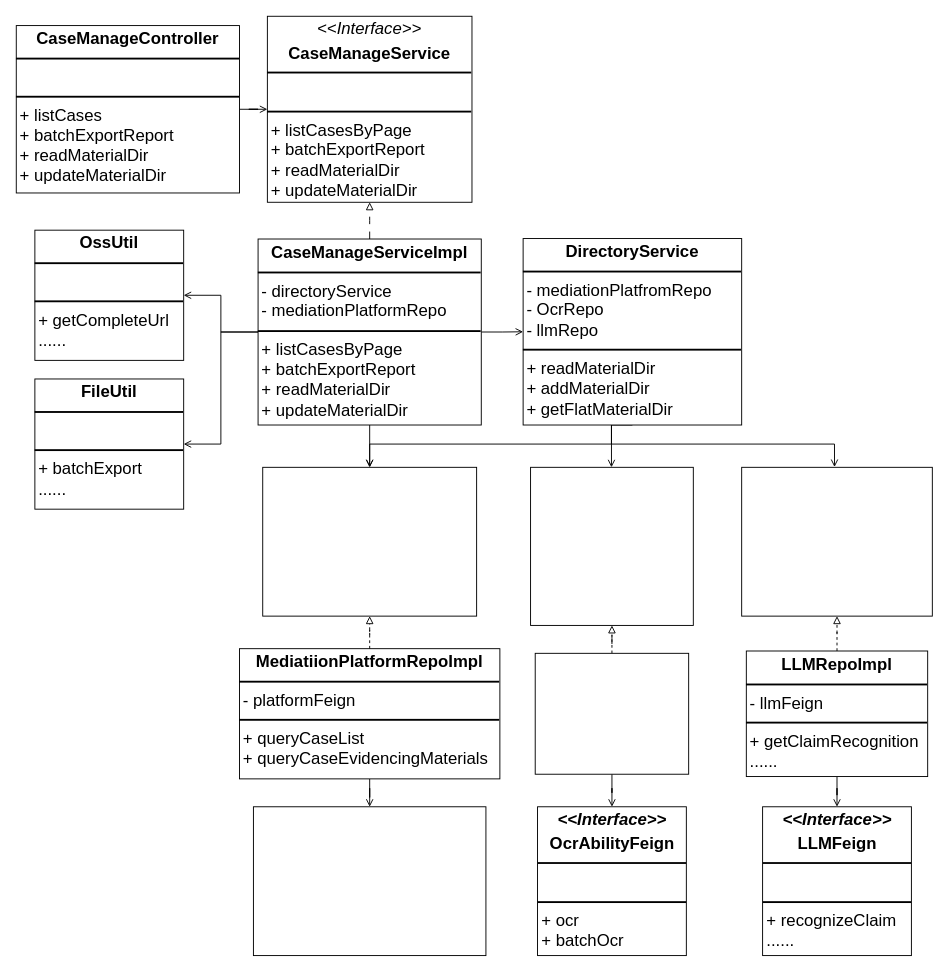
Some shapes in this 949 by 972 pixel diagram are drawn without their labels. Each missing label, with the centre of its shape:
"<<Interface>> LLMRepo + getClaimRecognition ......" goes at point 836,541.
"<<Interface>> MediationPlatformFeign + listCases + listCaseEvidencingMaterials" goes at point 369,881.
"<<Interface>> MediationPlatformRepo + queryCaseList + queryEvidencingMaterials" goes at point 369,541.
"<<Interface>> OcrRepo + callOcrByOssUri + batchCallOcr" goes at point 611,545.
"OcrRepoImpl - ocrAbilityFeign + callOcrByOssUri + batchCallOcr" goes at point 611,713.
